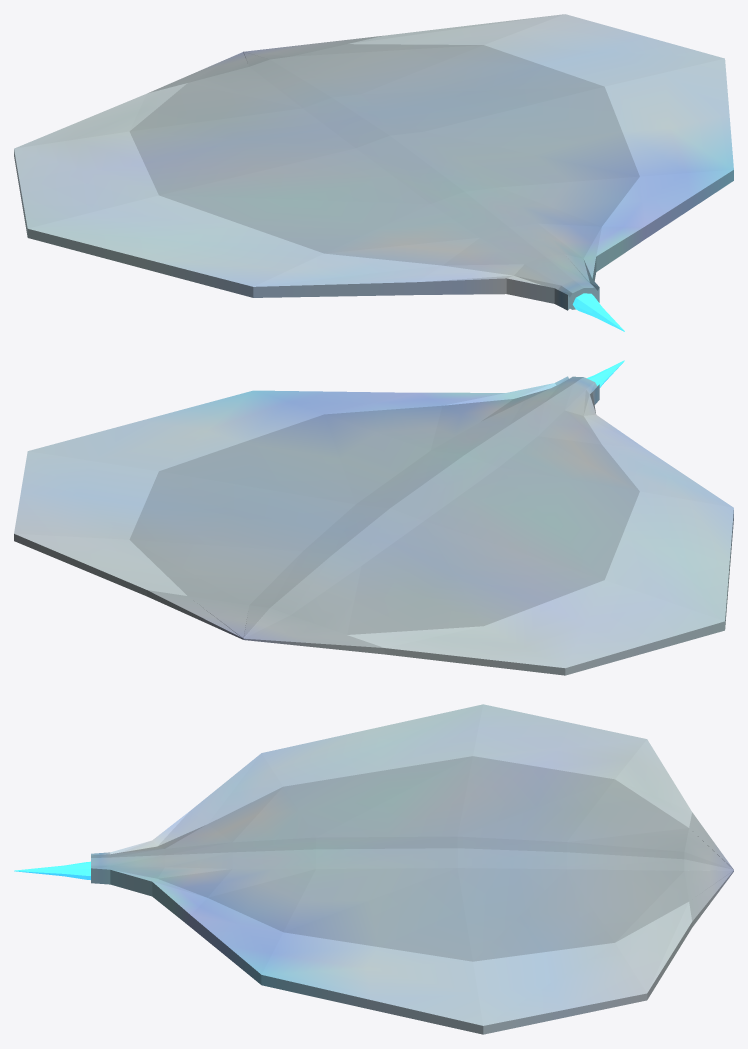
File: 04_kreuzer.glb
3 renders of one model, top to bottom at view 1: azimuth 30°, elevation 25°; view 2: azimuth 150°, elevation 25°; view 3: azimuth 270°, elevation 25°, orthographic. The views are drawn at different scales.
Visible parts, largest first — view 1: Hull, FX_drive; view 2: Hull; view 3: Hull, FX_drive.
Part boxes in pixels (x1,y1,x2,y2): Hull: [14, 14, 733, 310]; FX_drive: [572, 293, 624, 331]; Hull: [14, 376, 733, 675]; Hull: [91, 704, 733, 1034]; FX_drive: [14, 861, 90, 879].
Size of the model in its own units: 18.52 by 0.9151 by 17.52.
